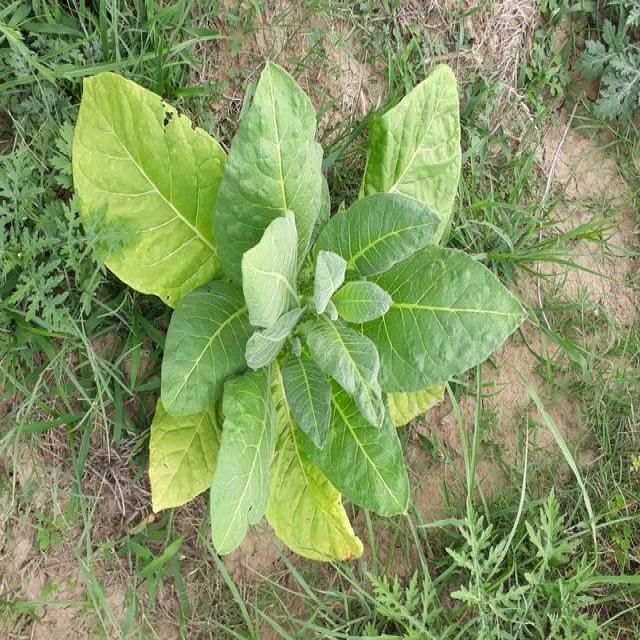crop: (66, 58, 518, 559)
